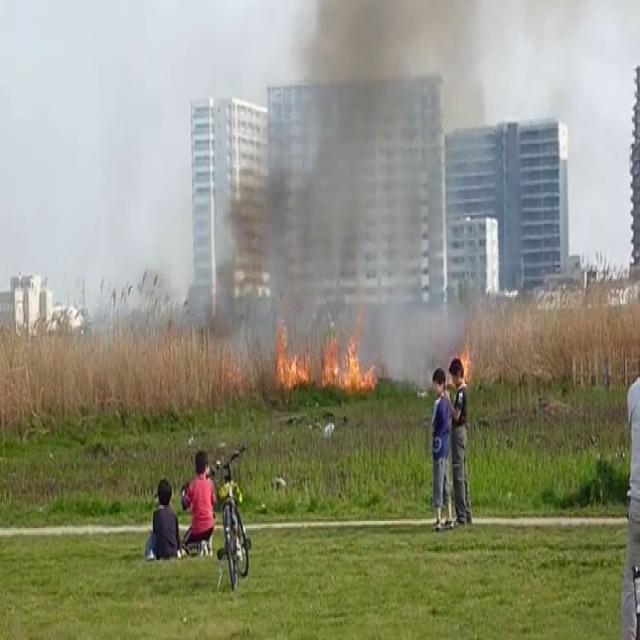Fire: (330, 325, 379, 400), (271, 318, 308, 398)
Smoke: (236, 4, 436, 384)
